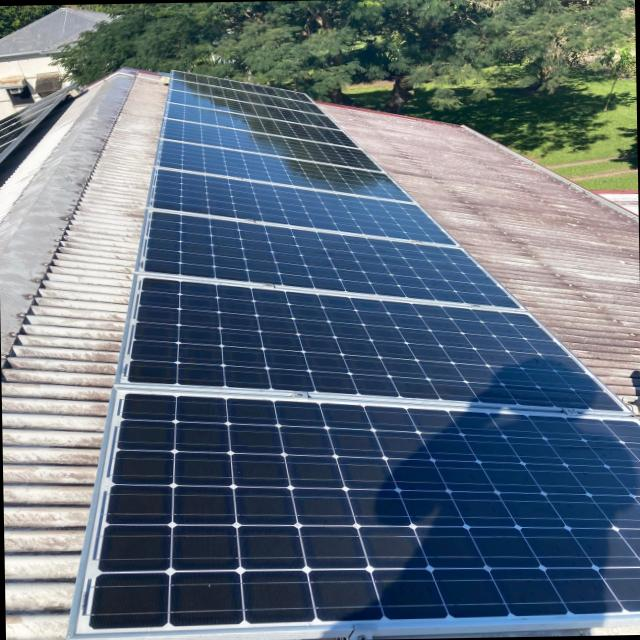no faulty: (74, 74, 640, 618)
